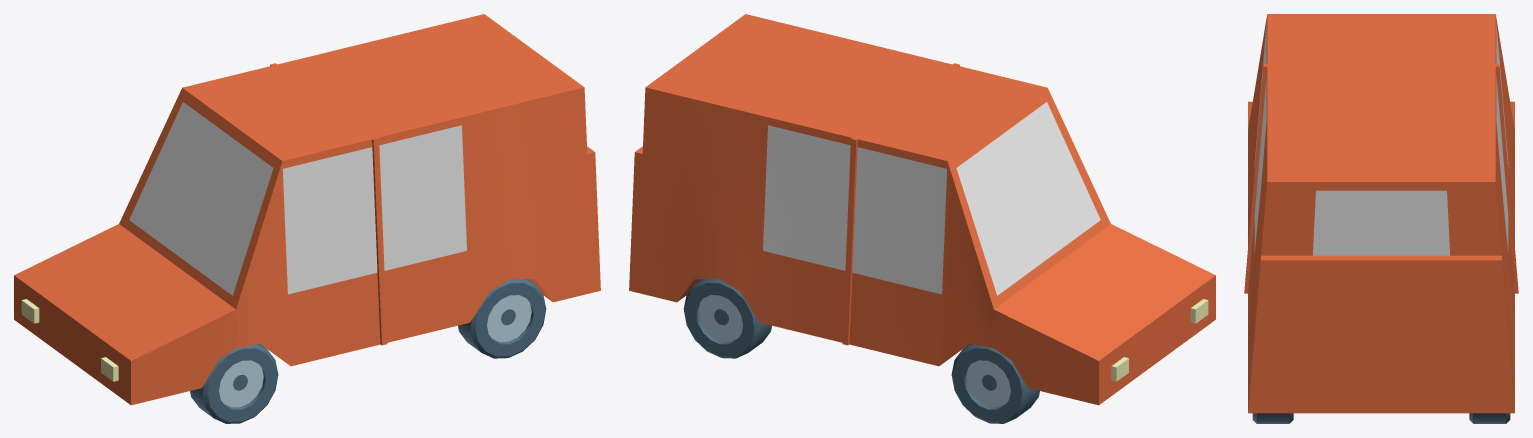
Rendered from SM_Car.fbx.
3 views of the same model, side by side, from view 1: azimuth 30°, elevation 25°; view 2: azimuth 150°, elevation 25°; view 3: azimuth 270°, elevation 25° (orthographic). The views are drawn at different scales.
Parts seen in each view (by area): view 1: SM_Car; view 2: SM_Car; view 3: SM_Car.
Part boxes in pixels (bbox=[...]): SM_Car: bbox=[14, 14, 600, 423]; SM_Car: bbox=[629, 14, 1215, 423]; SM_Car: bbox=[1244, 14, 1518, 423].
Size of the model in its own units: 2832 by 1242 by 1413.
